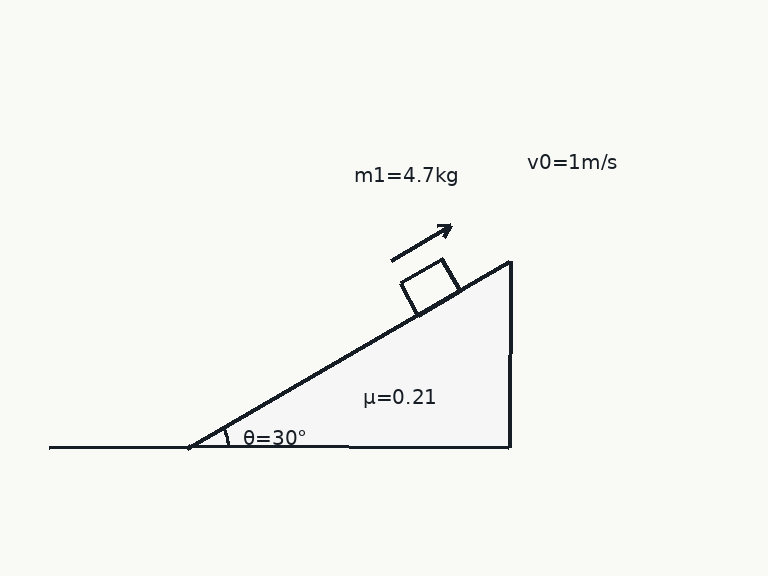block: (398, 257, 462, 316)
ramp: (186, 259, 511, 449)
